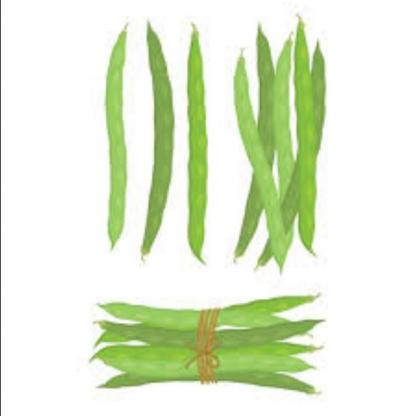beans: (80, 285, 364, 412), (96, 0, 219, 276), (226, 7, 349, 278)
